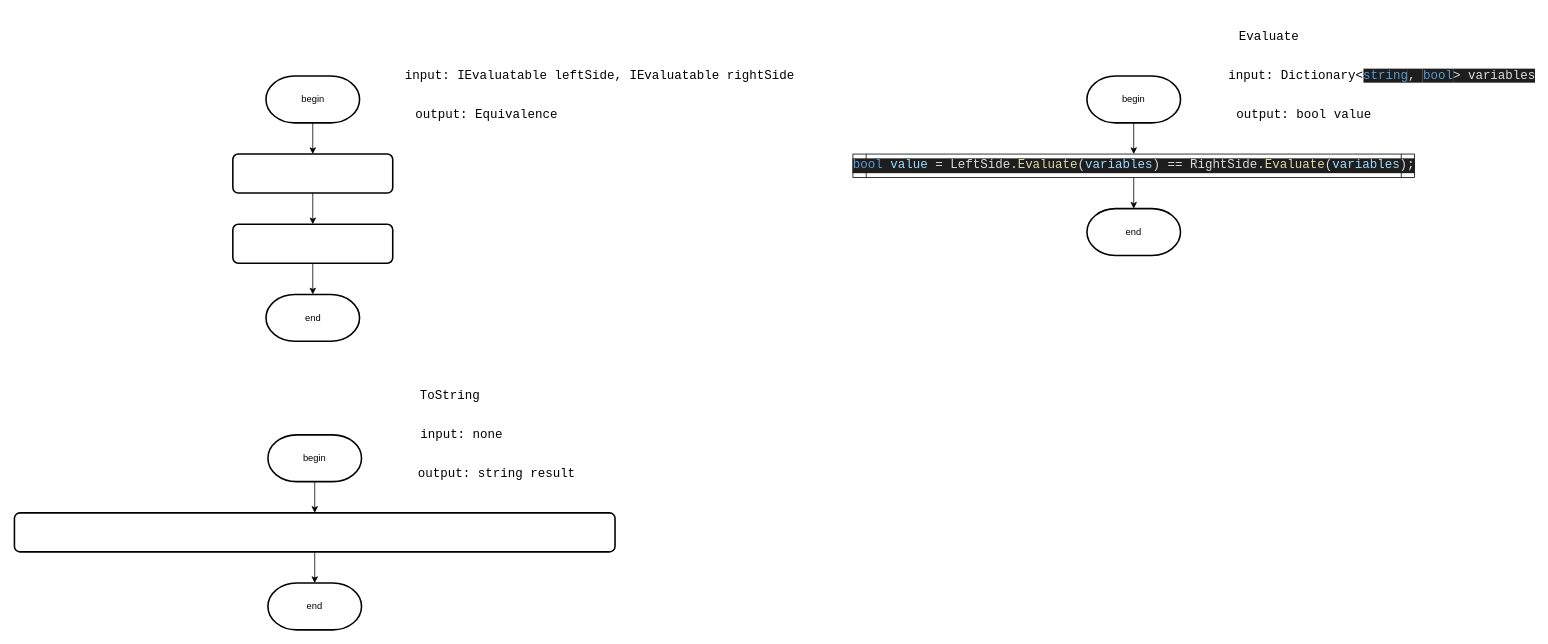
The diagram is 1548 pixels wide and 644 high, and some of its shapes have lost their labels. The shapes that lost their labels are listed below. From the top down, each one's box as (x1, y1, x2, y2) in pixels, then its label:
(232, 153, 393, 193): LeftSide = leftSide ;
(232, 223, 393, 264): RightSide = rightSide ;
(13, 512, 615, 552): string result = $"( {LeftSide} ~ {RightSide} )" ;
